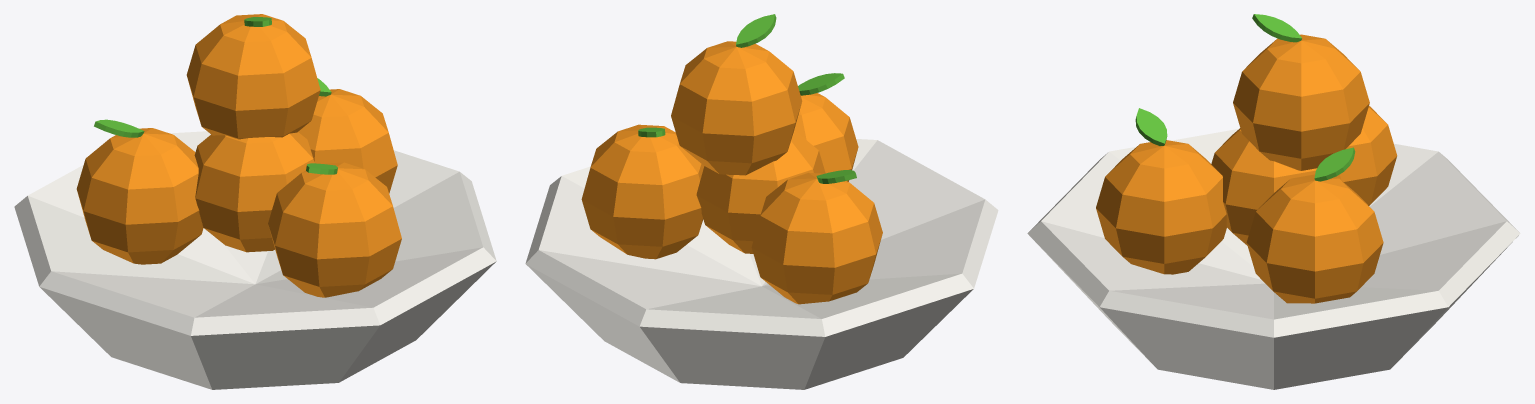
File: MandarinBowl.fbx
3 views of the same model, side by side, from view 1: azimuth 30°, elevation 25°; view 2: azimuth 150°, elevation 25°; view 3: azimuth 270°, elevation 25° (orthographic).
Parts seen in each view (by area): view 1: MandarinBowl; view 2: MandarinBowl; view 3: MandarinBowl.
Part boxes in pixels (left/top/right/bottom): MandarinBowl: left=14, top=14, right=496, bottom=389; MandarinBowl: left=525, top=14, right=998, bottom=389; MandarinBowl: left=1027, top=14, right=1520, bottom=389.
Size of the model in its own units: 3.6 by 2.56 by 3.6.
1 material, 1 textured.
